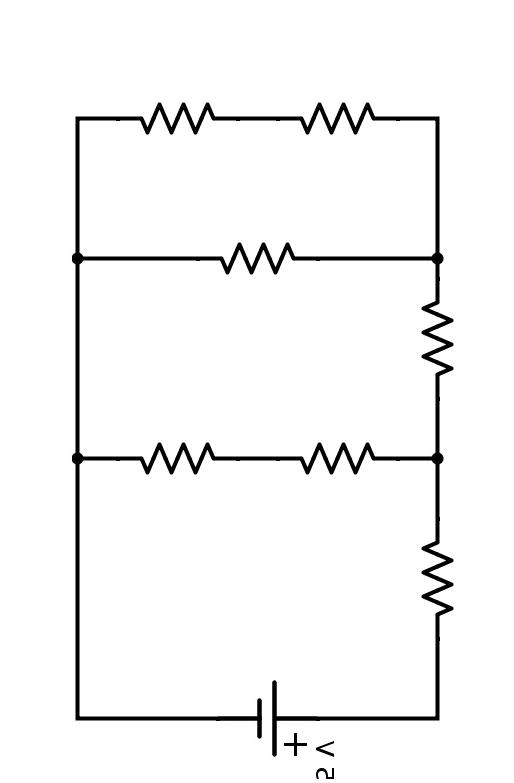resistor: (398, 510, 476, 650), (190, 214, 324, 290), (277, 417, 392, 500), (281, 78, 421, 144), (101, 82, 254, 142), (114, 424, 233, 491), (402, 286, 472, 394)
